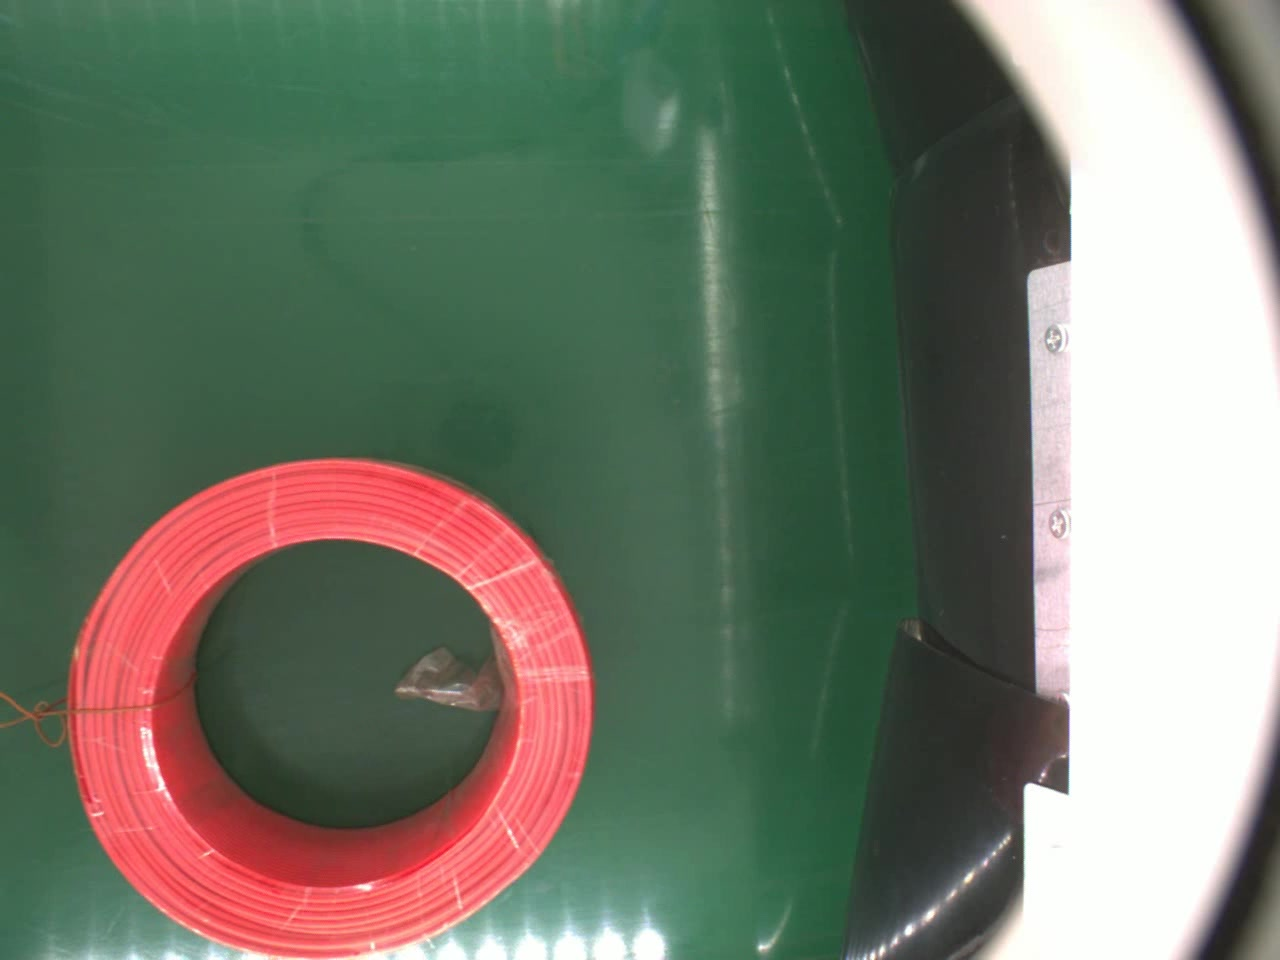red: (61, 453, 601, 960)
